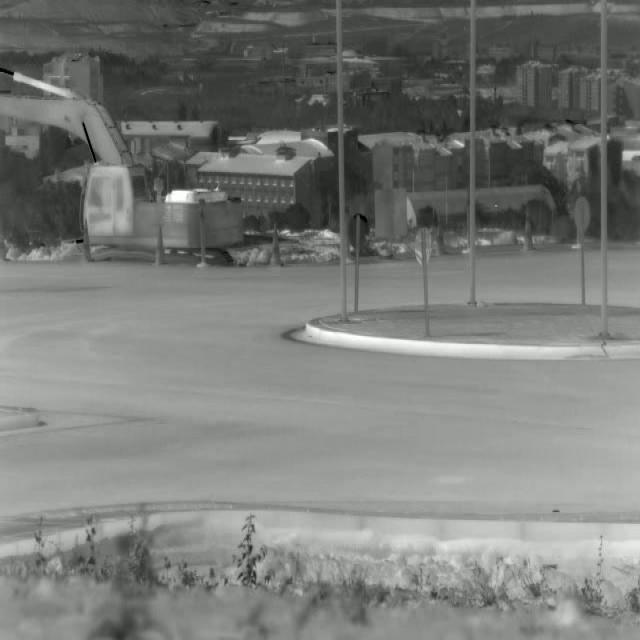Car: (83, 163, 245, 269)
